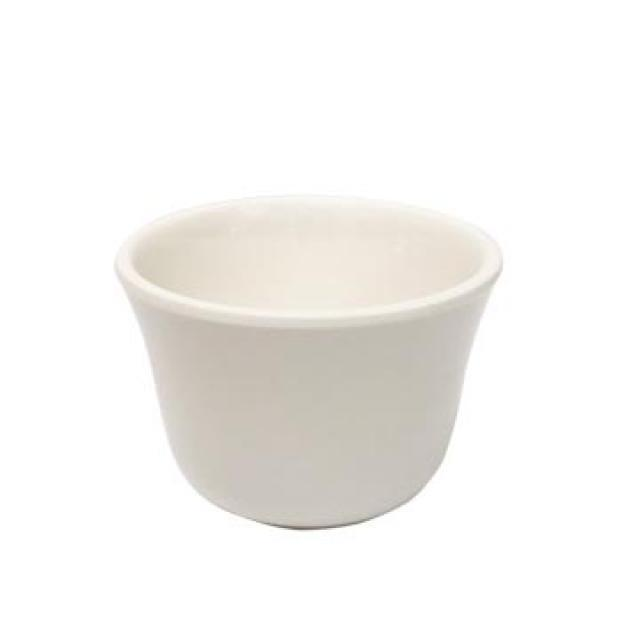Plastic: (120, 184, 504, 534)
